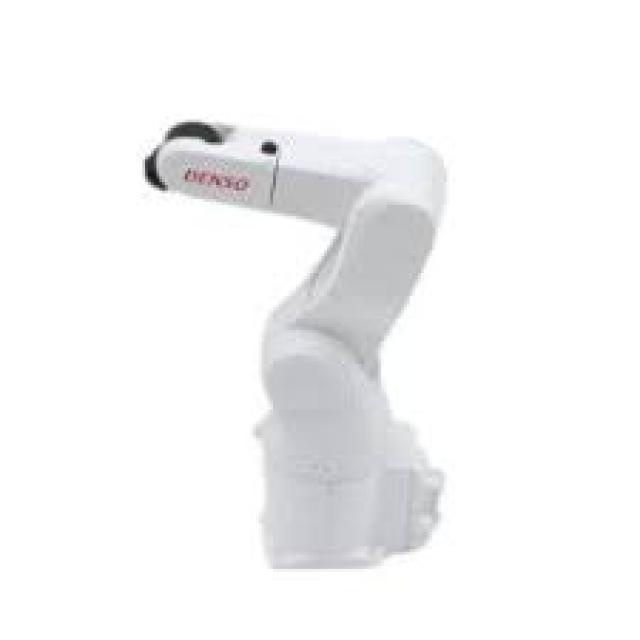Robotic-arm: (138, 105, 466, 576)
